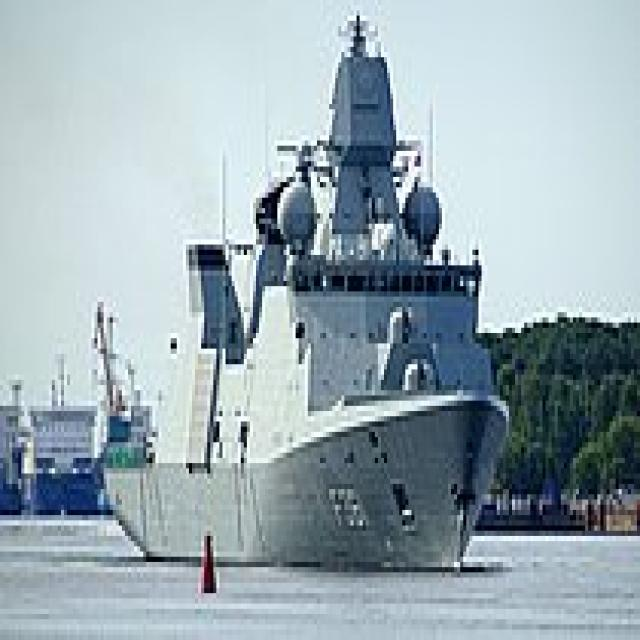Warship: (97, 5, 509, 562)
